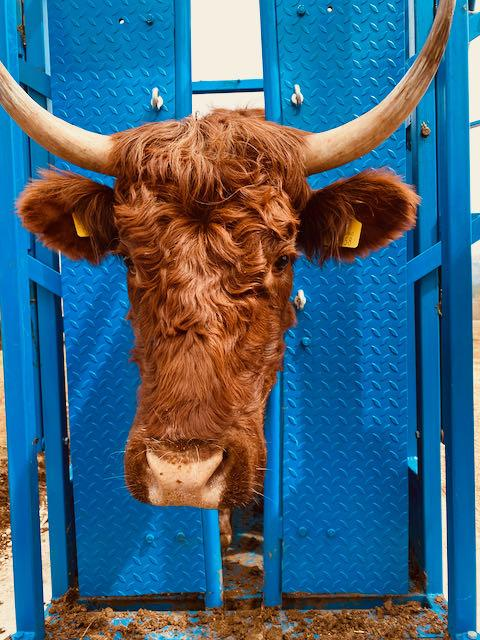muzzles: (109, 434, 273, 517)
